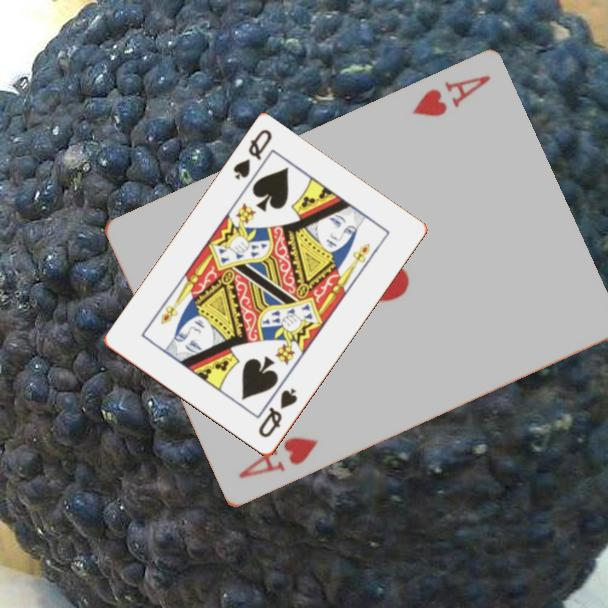h01: (235, 434, 321, 483), (408, 72, 493, 121)
s12: (229, 126, 275, 184), (255, 385, 301, 441)
